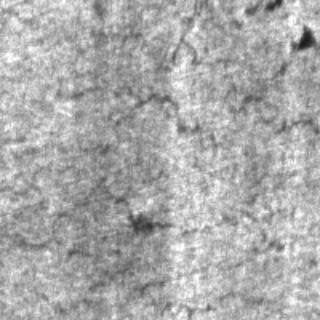crazing: (0, 149, 284, 315), (3, 29, 315, 157)
